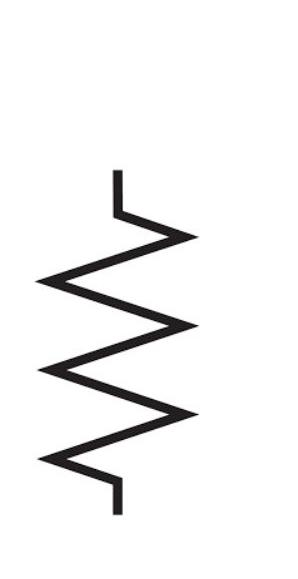resistor: (26, 174, 212, 501)
